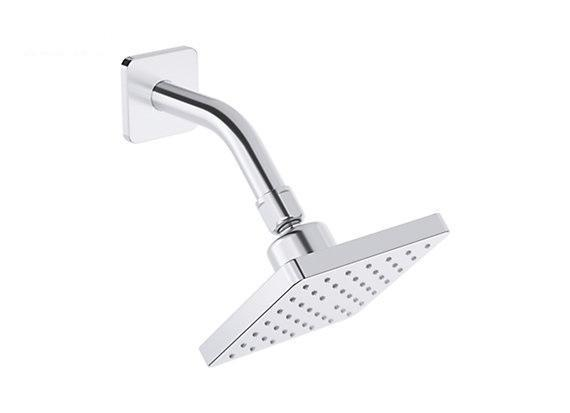Ducha: (106, 34, 449, 374)
